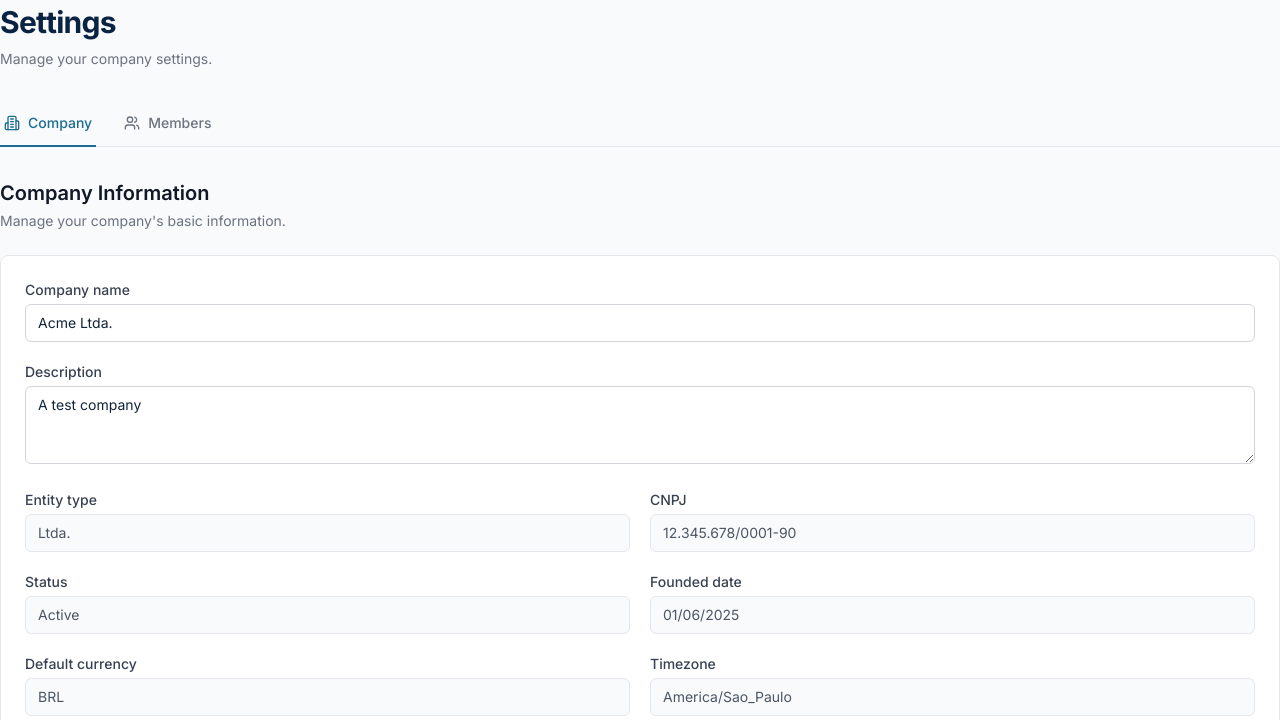
Scenario: SettingsPage › Members Tab › opens invite dialog when clicking invite button
This screenshot has width=1280, height=720.
Click the button "Members" at (168, 124), box [120,101,216,147]
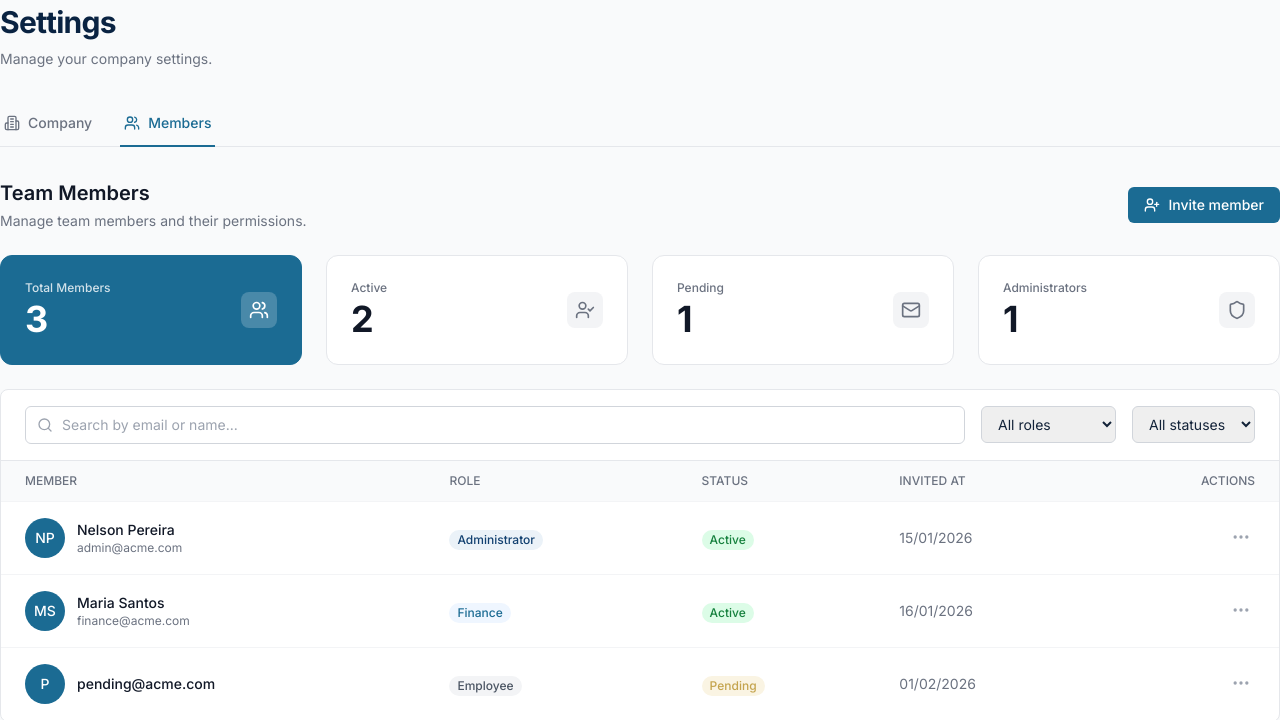
Click the button "Invite member" at (1204, 205), box [1128,187,1279,223]
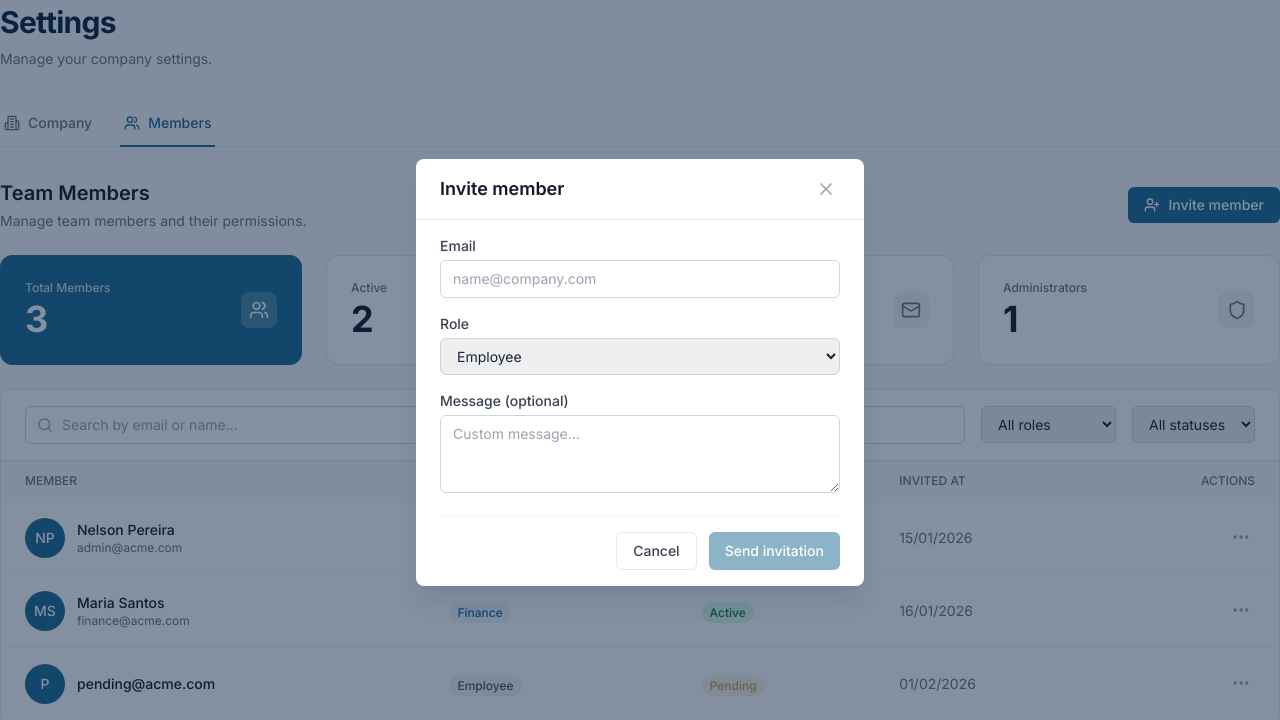
Expected: the heading "Invite member" is shown, [440,174,564,202]
Expected: the field with placeholder "name@company.com" is shown, [440,260,840,298]
